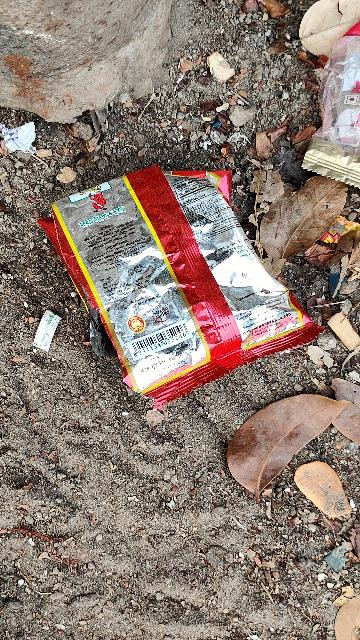packet: (43, 118, 323, 412), (307, 26, 360, 198)
